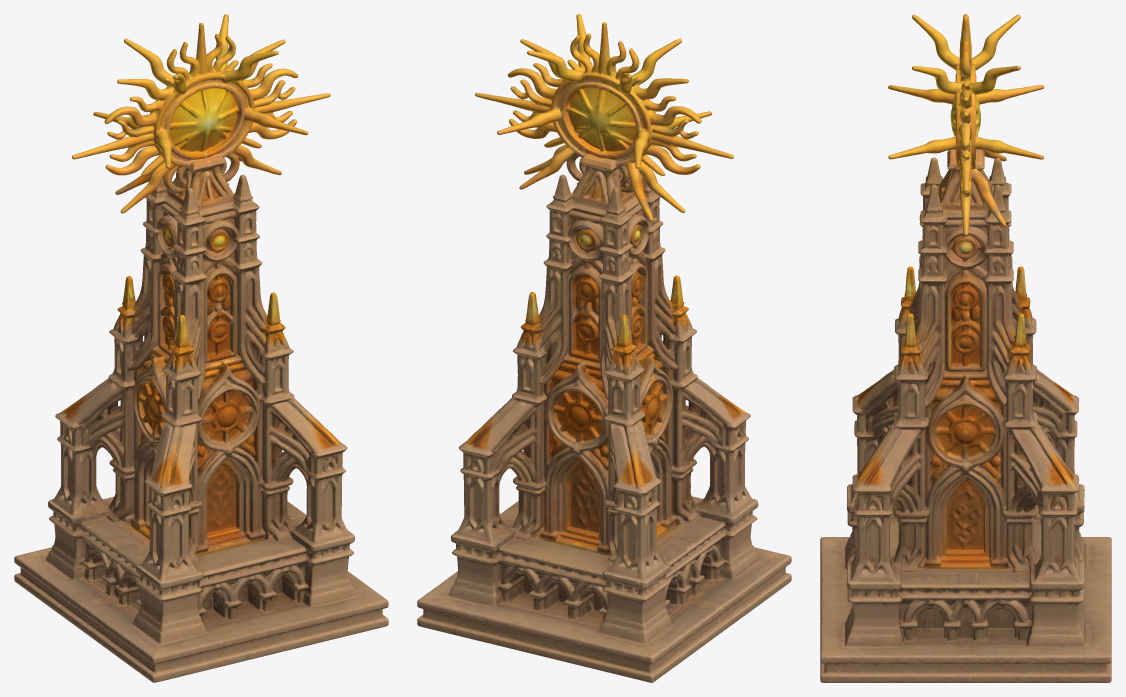
The model's file is Meshy_AI__1016100131_texture.fbx.
3 views of the same model, side by side, from view 1: azimuth 30°, elevation 25°; view 2: azimuth 150°, elevation 25°; view 3: azimuth 270°, elevation 25° (orthographic). The views are drawn at different scales.
Visible parts, largest first — view 1: Mesh_0; view 2: Mesh_0; view 3: Mesh_0.
Boxes of the visible parts, x1=… form: Mesh_0: x1=14, y1=14, x2=388, y2=682; Mesh_0: x1=417, y1=14, x2=791, y2=682; Mesh_0: x1=820, y1=14, x2=1111, y2=682.
Size of the model in its own units: 93.12 by 200 by 87.26.
Materials: 1 (1 with a texture image).
